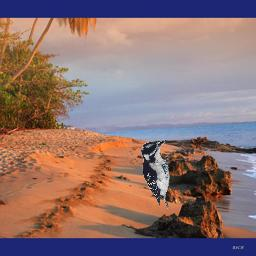Woodpecker: (141, 140, 171, 210)
